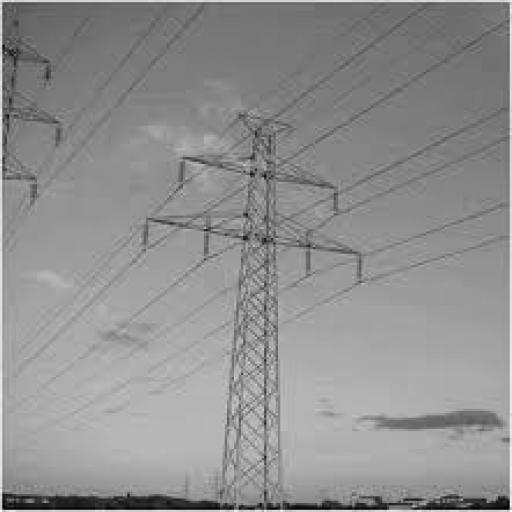ss_2: (144, 106, 362, 510)
